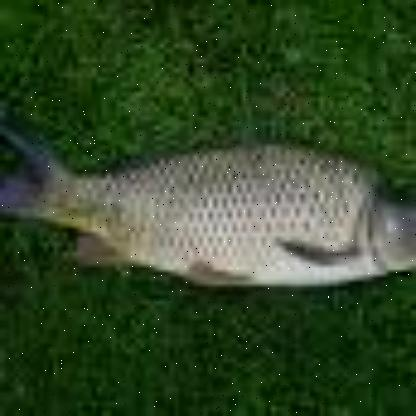ikan-mas: (5, 126, 415, 296)
